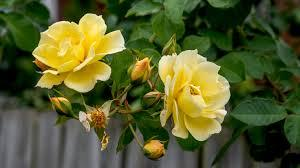Rose: (25, 12, 128, 90), (157, 39, 235, 142)
